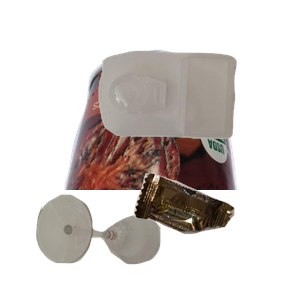glass: (34, 192, 187, 300)
metal: (62, 47, 300, 227)
plastic: (96, 48, 300, 179)
trash: (131, 171, 300, 300)
